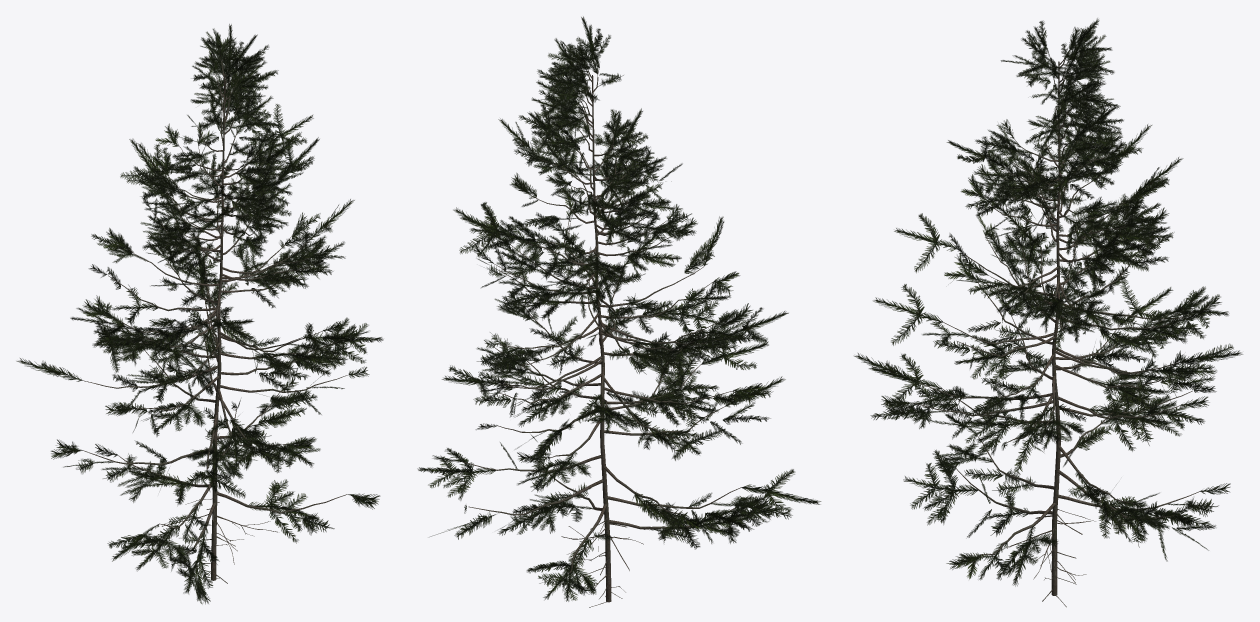
File: sapling_a.glb
3 views of the same model, side by side, from view 1: azimuth 30°, elevation 25°; view 2: azimuth 150°, elevation 25°; view 3: azimuth 270°, elevation 25° (orthographic). The views are drawn at different scales.
Visible parts, largest first — view 1: fir_sapling_medium_a_LOD1; view 2: fir_sapling_medium_a_LOD1; view 3: fir_sapling_medium_a_LOD1.
Boxes of the visible parts, bbox=[...] form: fir_sapling_medium_a_LOD1: bbox=[16, 24, 383, 604]; fir_sapling_medium_a_LOD1: bbox=[417, 16, 821, 607]; fir_sapling_medium_a_LOD1: bbox=[854, 18, 1242, 607].
Bounding box in the file's own units: 5.06 × 8.86 × 5.32.
3 materials, 3 textured.
